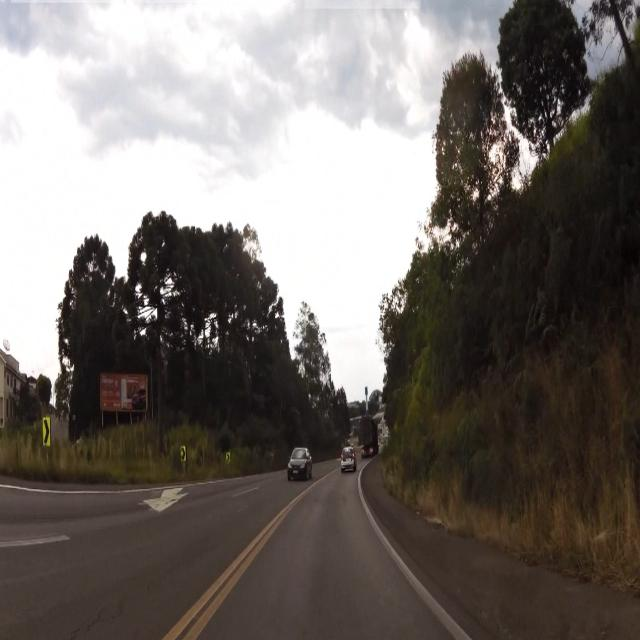Del: (40, 418, 54, 448)
